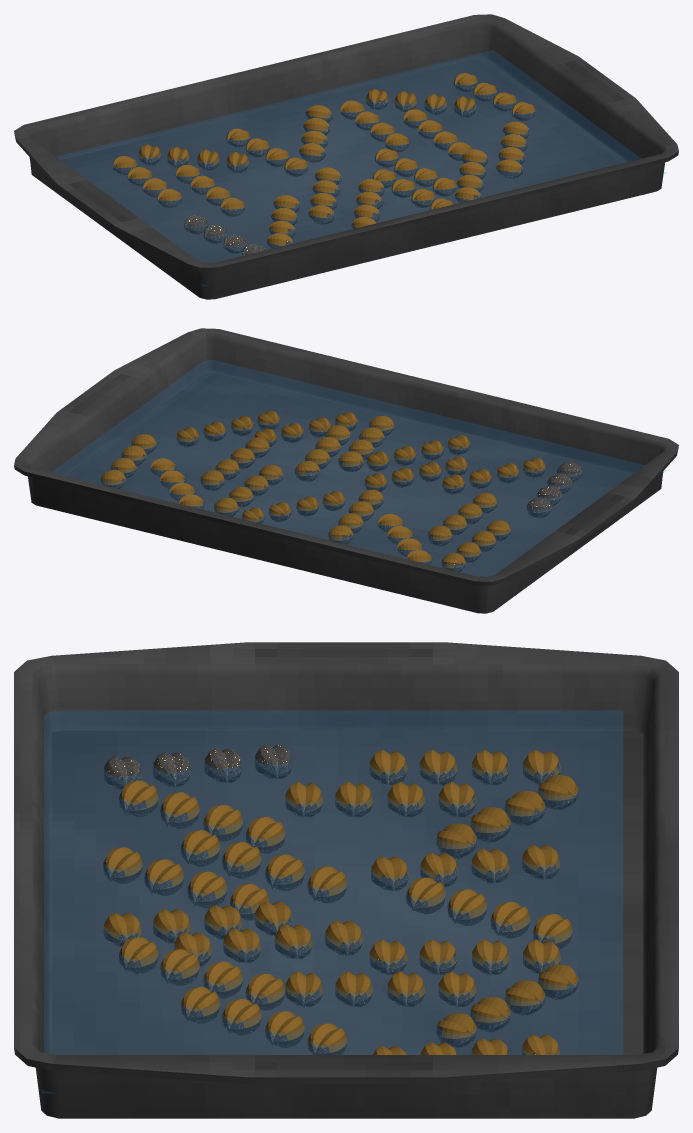
File: driedmalt.fbx
3 renders of one model, top to bottom at view 1: azimuth 30°, elevation 25°; view 2: azimuth 150°, elevation 25°; view 3: azimuth 270°, elevation 25°, orthographic. The views are drawn at different scales.
Parts seen in each view (by area): view 1: Об'єкт; view 2: Об'єкт; view 3: Об'єкт.
Boxes of the visible parts, <box> form: Об'єкт: <box>14,14,678,299</box>; Об'єкт: <box>14,328,678,613</box>; Об'єкт: <box>14,642,678,1118</box>.
Bounding box in the file's own units: 0.5123 × 0.0365 × 0.3309.
